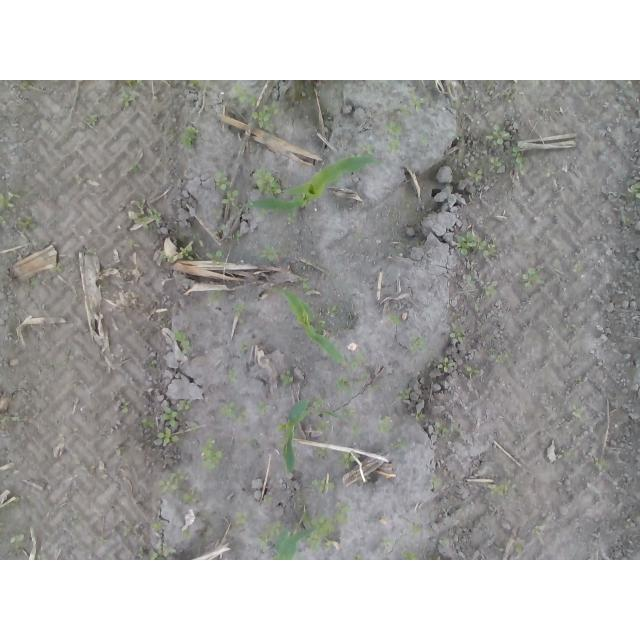Maize: (245, 156, 387, 212), (270, 285, 346, 365), (284, 398, 345, 475), (273, 526, 316, 560)
Weeds: (307, 516, 337, 551), (128, 199, 162, 229), (251, 100, 279, 134), (254, 168, 283, 197), (166, 124, 199, 149), (200, 437, 223, 469), (219, 402, 249, 426), (382, 119, 403, 153), (228, 82, 256, 106), (486, 123, 511, 145), (455, 230, 477, 255), (520, 268, 545, 288), (333, 500, 353, 524), (490, 479, 518, 496), (174, 329, 191, 355), (476, 238, 497, 259), (338, 451, 360, 470), (205, 249, 227, 268), (618, 181, 640, 200), (157, 427, 180, 445), (0, 190, 20, 210), (508, 145, 529, 164), (213, 170, 232, 190), (335, 374, 353, 395), (408, 333, 428, 351), (260, 244, 281, 261), (310, 313, 326, 335), (312, 477, 335, 492), (120, 91, 137, 111), (162, 407, 179, 427), (449, 323, 466, 343), (18, 216, 39, 232), (221, 189, 239, 207), (409, 95, 426, 114), (261, 520, 281, 536), (156, 543, 177, 558), (157, 479, 179, 493), (376, 418, 394, 435), (170, 467, 185, 487), (232, 301, 245, 323), (9, 529, 27, 544), (178, 245, 194, 261), (438, 358, 455, 373), (450, 423, 465, 440), (358, 141, 375, 156), (396, 103, 413, 118), (349, 351, 363, 369), (118, 80, 142, 90), (256, 401, 272, 416), (280, 370, 295, 386), (482, 281, 498, 296), (391, 437, 408, 451), (293, 493, 307, 510), (469, 292, 481, 311), (429, 475, 444, 490), (182, 490, 198, 504), (489, 156, 503, 172), (258, 535, 271, 552), (300, 276, 311, 296), (315, 446, 333, 458), (397, 387, 412, 401), (316, 420, 332, 433), (227, 230, 243, 243), (181, 80, 204, 89), (4, 496, 21, 508), (235, 511, 249, 525), (571, 404, 585, 418), (212, 224, 227, 237), (237, 340, 250, 355), (350, 421, 362, 437), (386, 314, 402, 326), (48, 262, 64, 274), (468, 168, 484, 180), (434, 422, 448, 435), (409, 521, 422, 535), (341, 405, 356, 417), (401, 550, 419, 560), (137, 545, 149, 560), (138, 417, 156, 427), (410, 409, 426, 420), (177, 398, 191, 410), (210, 288, 222, 302), (503, 88, 517, 100), (113, 444, 128, 455), (344, 152, 364, 160), (87, 114, 99, 127), (326, 305, 338, 318), (123, 524, 135, 537), (355, 374, 367, 387), (532, 525, 546, 536), (491, 353, 505, 364), (1, 414, 20, 422), (150, 550, 165, 560), (121, 397, 130, 413), (212, 209, 225, 220), (129, 163, 141, 174), (379, 537, 391, 548), (152, 521, 164, 532), (313, 394, 324, 406), (594, 459, 606, 470), (573, 260, 584, 272), (464, 366, 480, 374), (287, 212, 298, 223), (419, 136, 430, 147), (27, 276, 37, 288), (159, 250, 169, 262), (467, 274, 477, 286), (485, 80, 495, 92), (228, 368, 237, 381), (20, 80, 33, 89), (518, 164, 527, 177), (189, 421, 200, 431), (127, 238, 137, 249), (451, 100, 462, 110), (49, 361, 60, 371), (278, 437, 288, 448), (73, 175, 85, 184), (72, 290, 80, 303), (70, 515, 80, 525), (545, 168, 555, 178), (147, 357, 157, 367), (251, 439, 261, 449), (301, 511, 310, 522), (276, 423, 287, 432), (514, 542, 522, 554), (287, 528, 299, 536), (60, 195, 72, 203), (463, 93, 474, 101), (381, 551, 392, 559), (182, 529, 191, 538), (98, 536, 107, 545), (88, 247, 98, 255), (263, 495, 273, 503), (353, 232, 363, 240), (495, 546, 505, 554), (1, 215, 8, 226), (258, 208, 267, 216), (369, 385, 380, 391), (237, 205, 243, 215), (352, 556, 363, 561), (432, 556, 442, 561), (549, 329, 556, 336), (52, 323, 60, 329), (36, 553, 42, 560), (305, 259, 312, 265), (440, 540, 449, 544), (161, 324, 168, 329), (0, 521, 4, 527), (1, 374, 4, 382)
